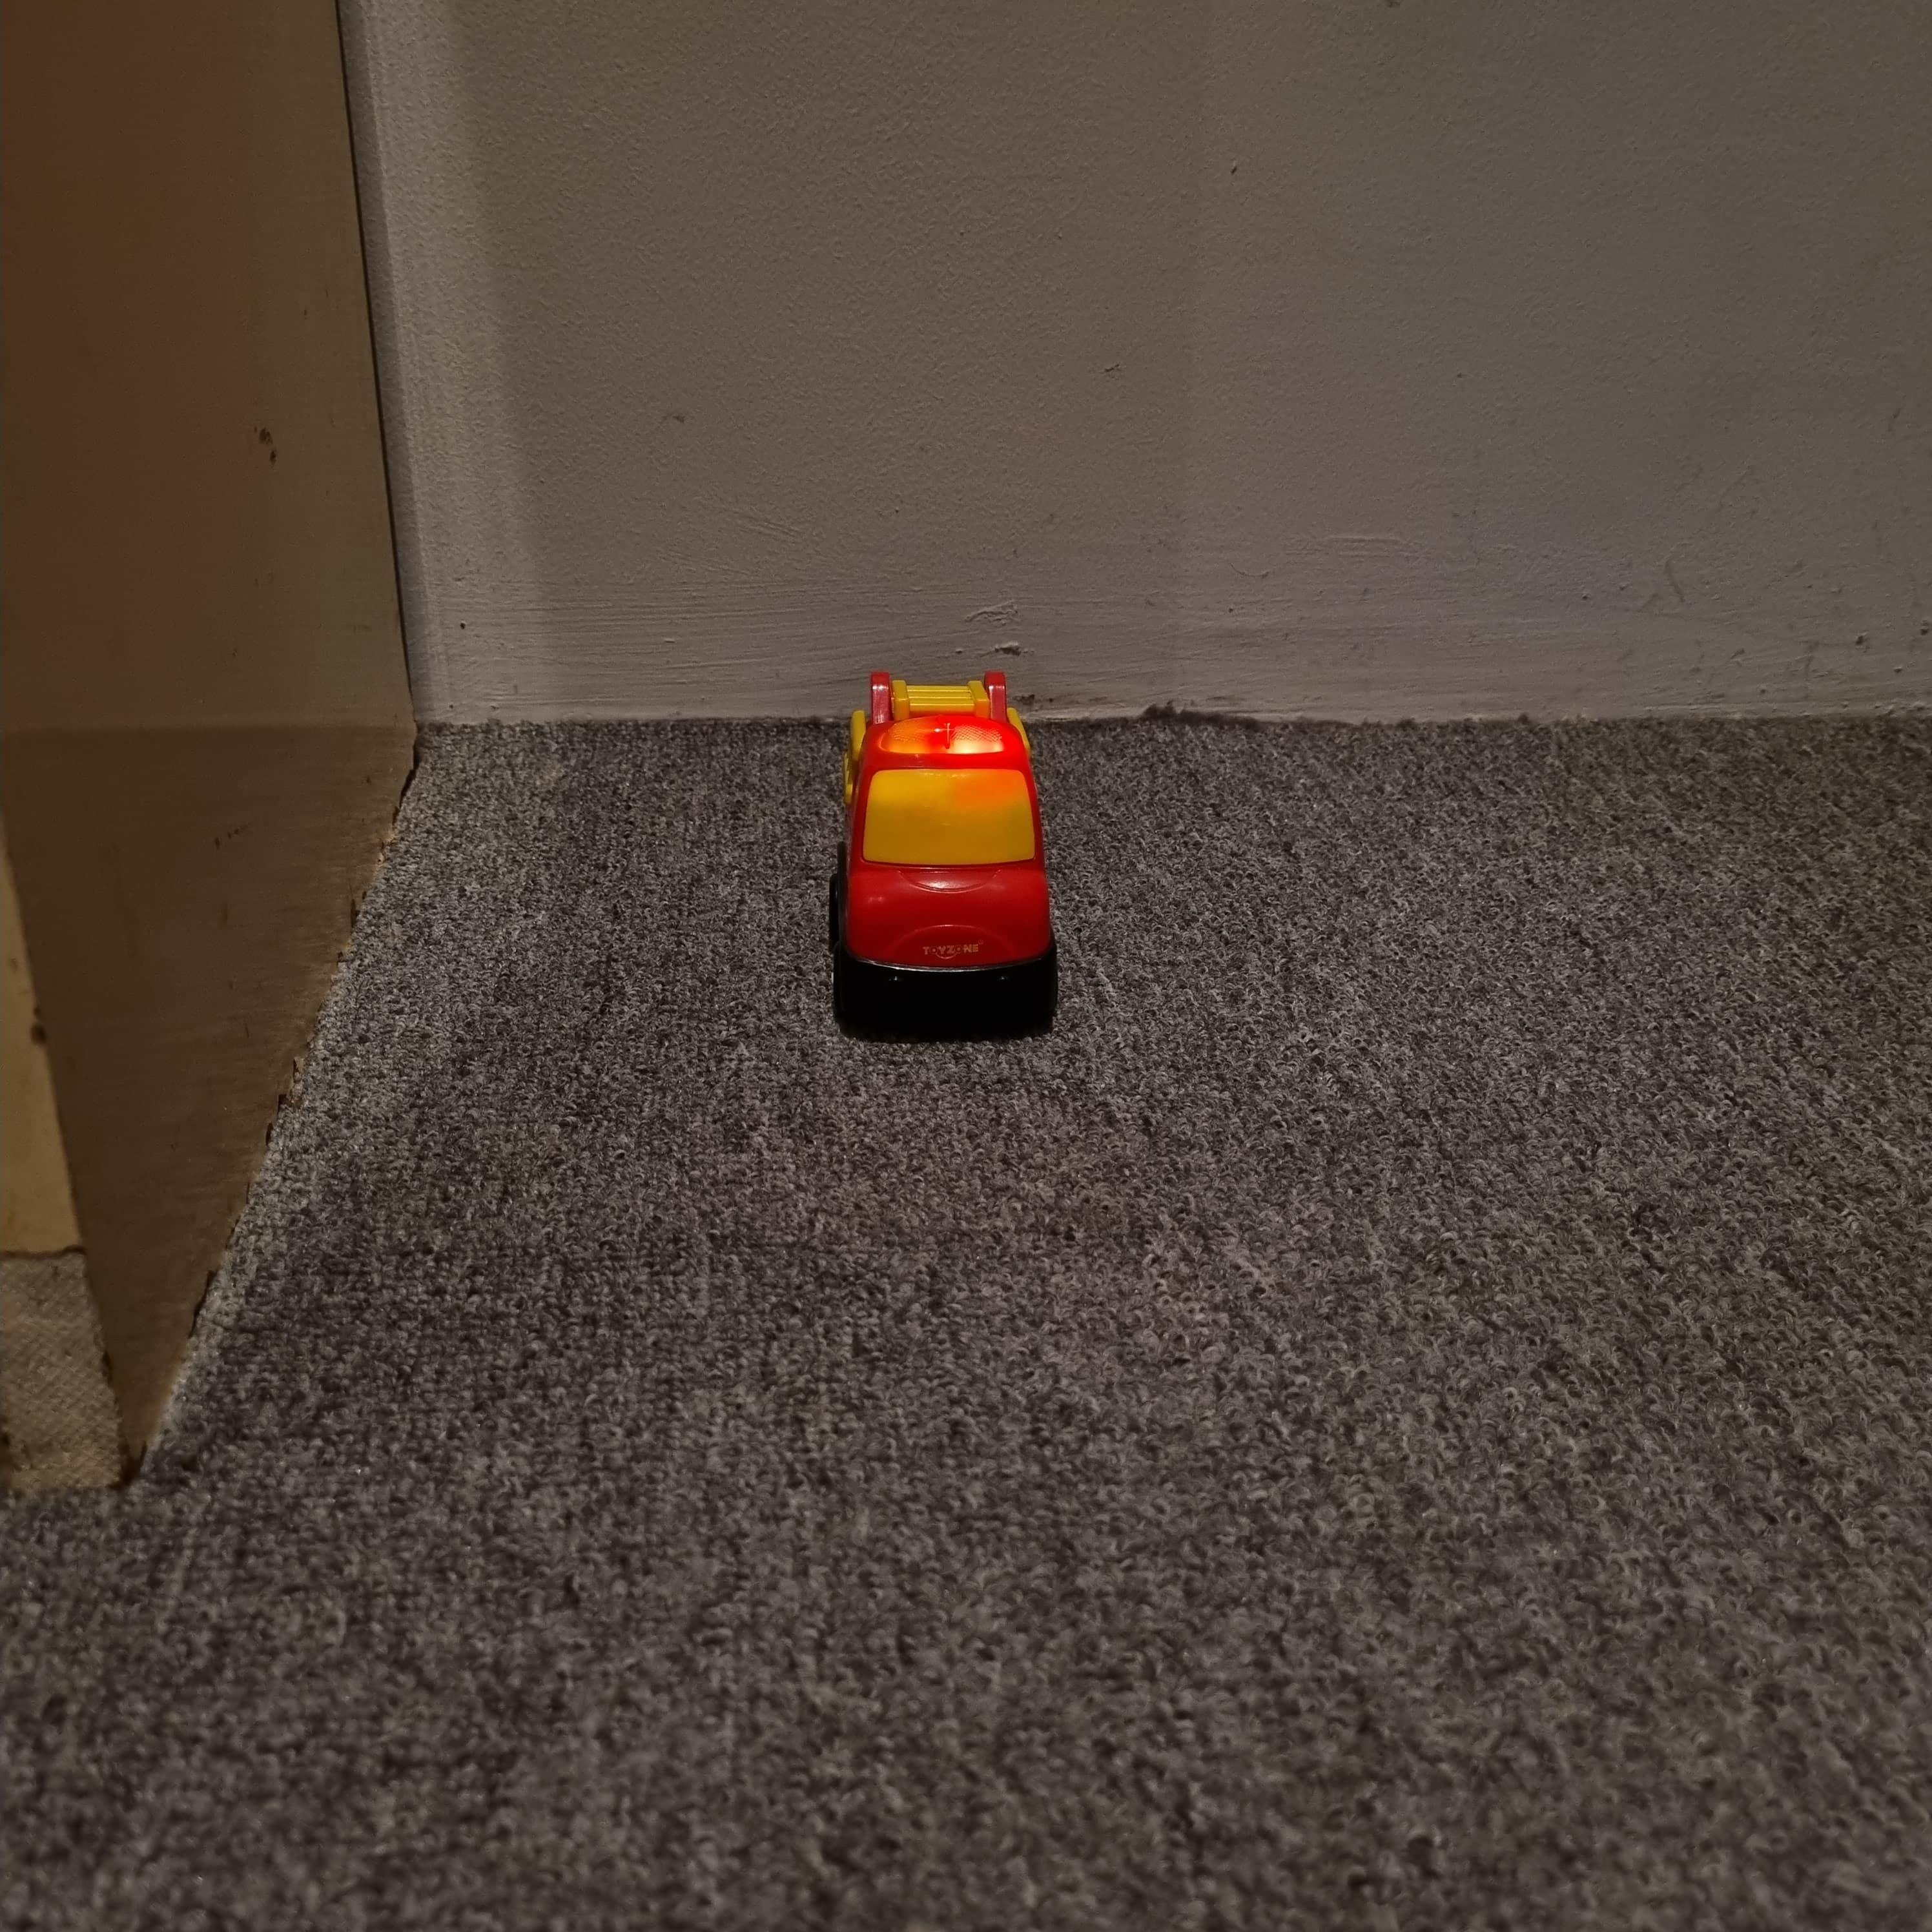firetruck_on: (826, 669, 1056, 1017)
